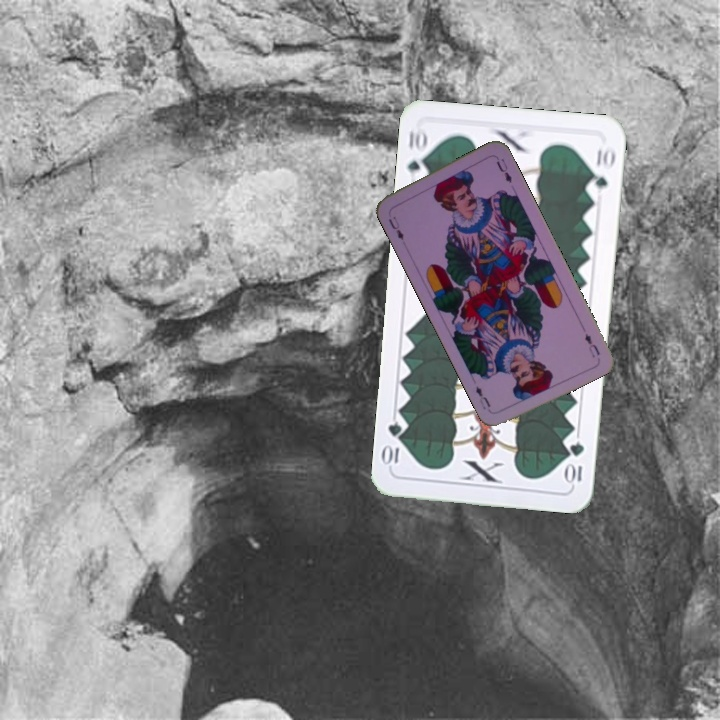EU: (384, 212, 406, 243), (580, 329, 602, 360)
G10: (403, 124, 431, 184), (564, 437, 587, 486)
